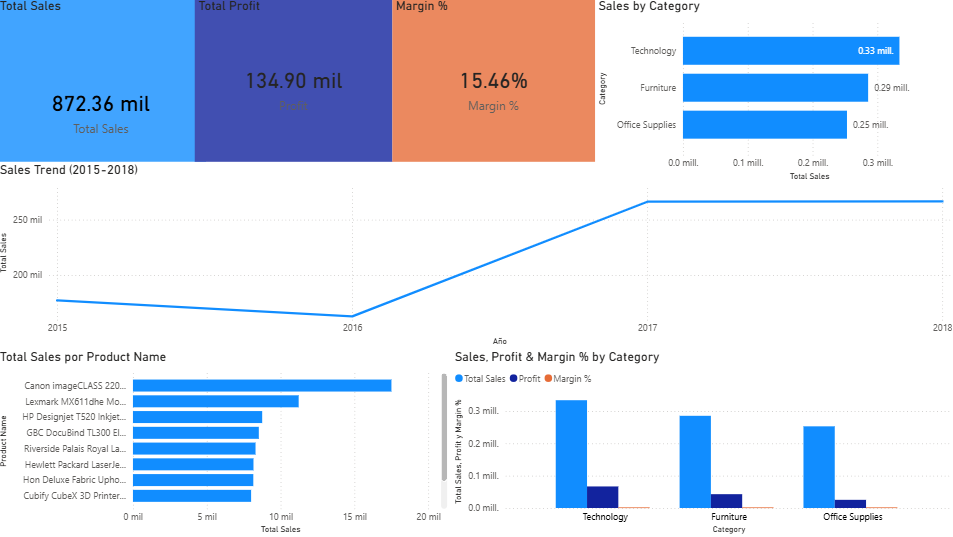

This screenshot's page, from the dashboard's own definition file:
{"tool":"powerbi","page":{"name":"Página 1","canvas":[1280,720],"ordinal":0},"visuals":[{"type":"card","title":"Total Sales","fields":{"Values":["train.Total Sales"]},"box":[0,0,280,280],"z":0},{"type":"lineChart","title":"Sales Trend (2015-2018)","fields":{"Category":["train.Order Date","train.Order Date.Variación.Jerarquía de fechas.Año"],"Y":["train.Total Sales"]},"box":[0,218.3,1280,250],"z":4},{"type":"clusteredBarChart","title":"Sales by Category","fields":{"Category":["train.Category"],"Y":["train.Total Sales"]},"box":[798.3,0,481.7,248.3],"z":5},{"type":"card","title":"Margin %","fields":{"Values":["train.Margin %"]},"box":[528.3,0,270,218.3],"z":6},{"type":"card","title":"Total Profit","fields":{"Values":["train.Profit"]},"box":[265,0,263.3,218.3],"z":7},{"type":"lineClusteredColumnComboChart","title":"Sales, Profit & Margin % by Category","fields":{"Category":["train.Category"],"Y":["train.Total Sales","train.Profit","train.Margin %"]},"box":[606.7,468.3,673.3,251.7],"z":8},{"type":"clusteredBarChart","fields":{"Category":["train.Product Name"],"Y":["train.Total Sales"]},"box":[0,468.3,606.7,251.7],"z":9}]}

Visuals, with their boxes in screenshot pixels (x1, y1, x2, y2), scaled from the page's 1280x720 canvas onto the 953x537 screenshot:
"Total Sales" card: 0, 0, 208, 209
"Sales Trend (2015-2018)" lineChart: 0, 163, 952, 349
"Sales by Category" clusteredBarChart: 594, 0, 952, 185
"Margin %" card: 393, 0, 594, 163
"Total Profit" card: 197, 0, 393, 163
"Sales, Profit & Margin % by Category" lineClusteredColumnComboChart: 452, 349, 952, 536
clusteredBarChart - train.Product Name x train.Total Sales: 0, 349, 452, 536
